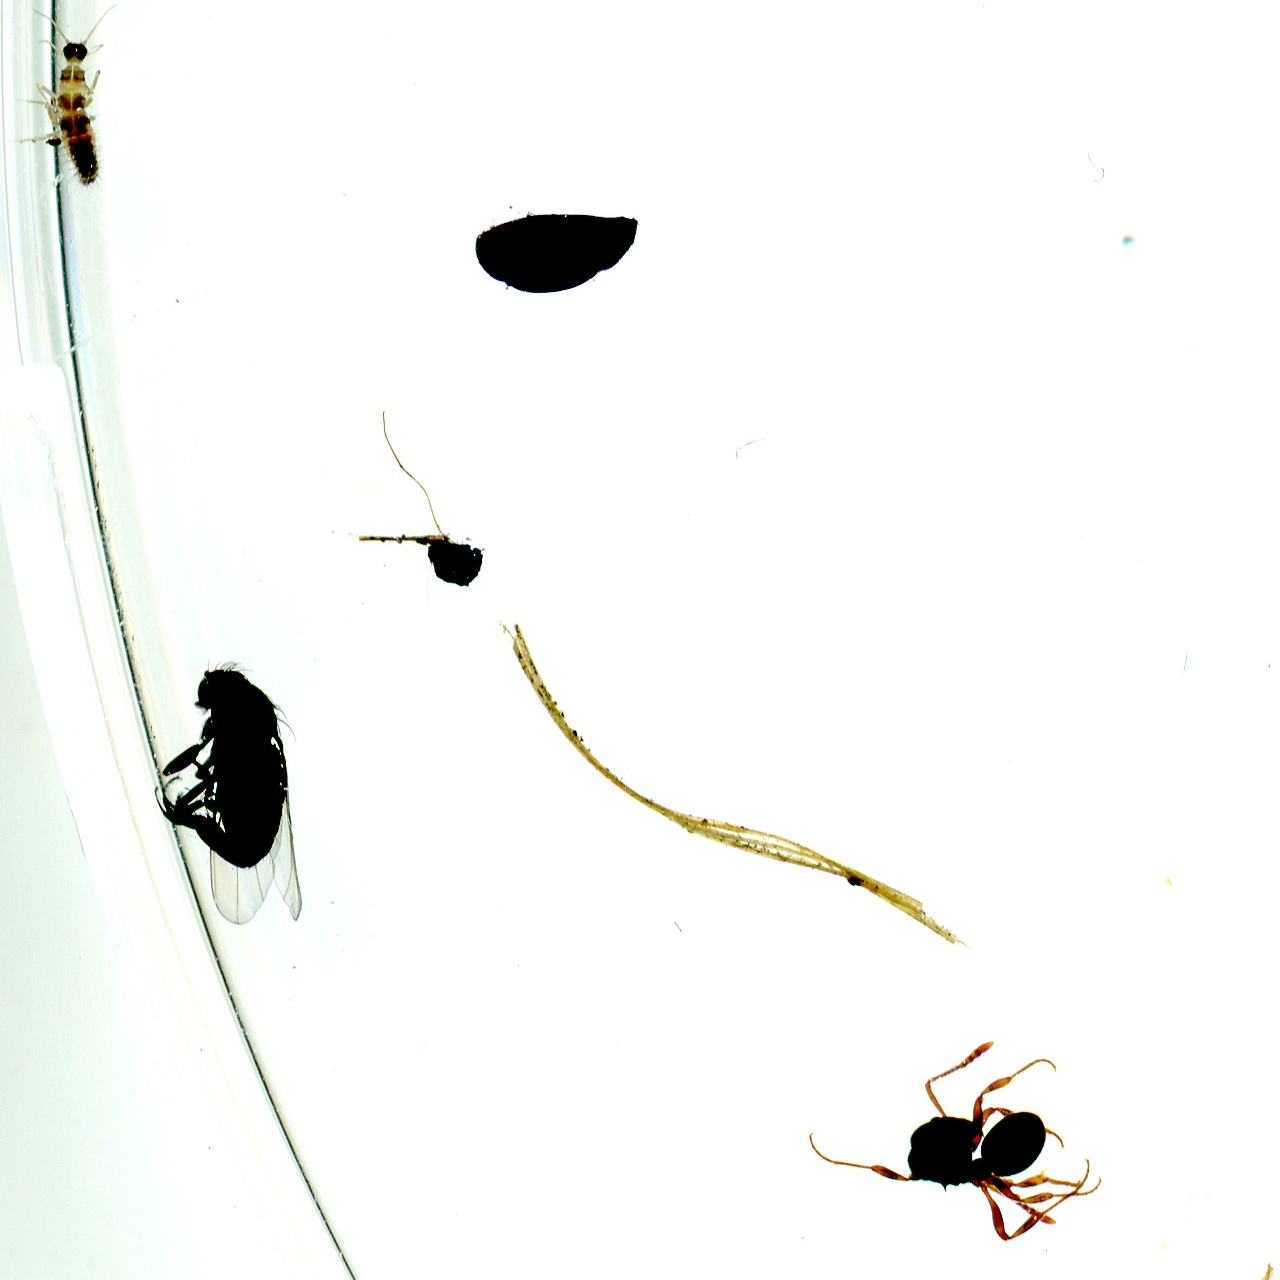arthropod: (795, 1033, 1110, 1241), (148, 646, 312, 941), (12, 0, 122, 203)
